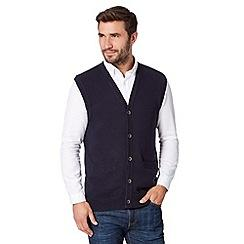S_cardigan sweater: (62, 61, 170, 212)
